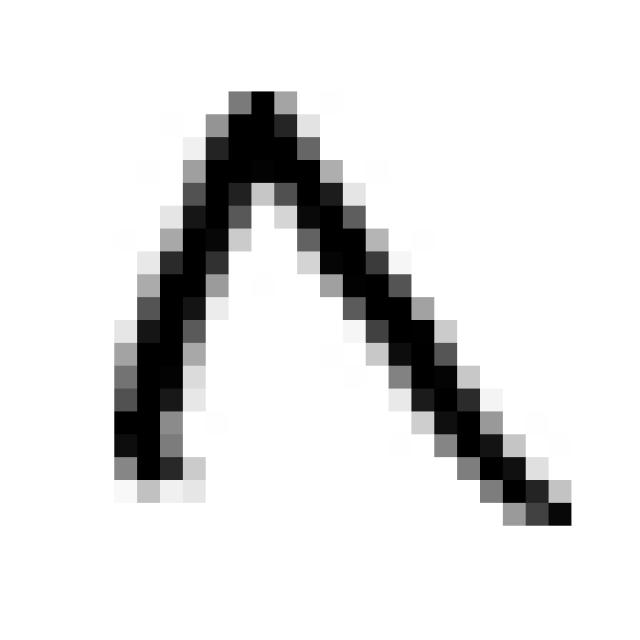8 -eight-: (91, 62, 588, 561)
